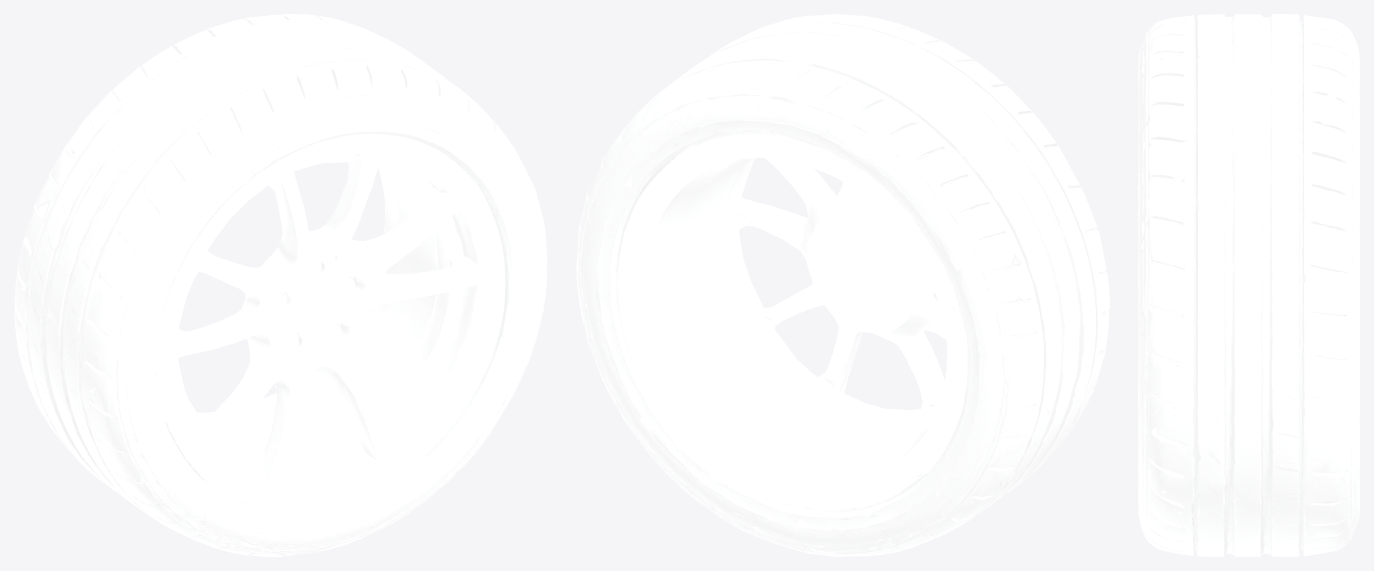
Rendered from Meshy_AI_Twin_Alloy_Wheels_20261116_texture_41459tris.glb.
The picture shows the model from 3 angles, left to right: view 1: azimuth 30°, elevation 25°; view 2: azimuth 150°, elevation 25°; view 3: azimuth 270°, elevation 25°; orthographic projection. The views are drawn at different scales.
Visible parts, largest first — view 1: Mesh_0; view 2: Mesh_0; view 3: Mesh_0.
Boxes of the visible parts, x1,y1,x2,y2 form: Mesh_0: (14,14,547,556); Mesh_0: (576,14,1109,556); Mesh_0: (1138,14,1359,556).
Bounding box in the file's own units: 190 × 190 × 77.58.
Materials: 1 (1 with a texture image).
